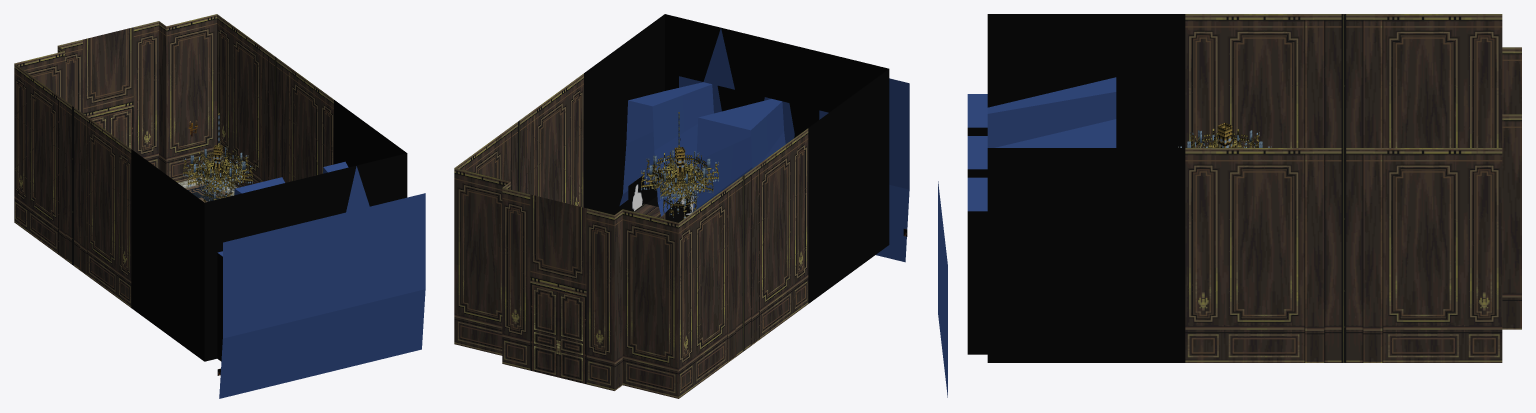
File: MAP213.obj
3 renders of one model, left to right at view 1: azimuth 30°, elevation 25°; view 2: azimuth 150°, elevation 25°; view 3: azimuth 270°, elevation 25°, orthographic. The views are drawn at different scales.
Parts seen in each view (by area): view 1: mesh_73, mesh_64, mesh_61, mesh_66, mesh_63, mesh_68, mesh_65, mesh_47, mesh_62, mesh_67, mesh_69, mesh_80 (+1 smaller); view 2: mesh_61, mesh_64, mesh_63, mesh_80, mesh_68, mesh_65, mesh_66, mesh_62, mesh_73, mesh_47, mesh_69, mesh_82; view 3: mesh_66, mesh_65, mesh_64, mesh_63, mesh_80, mesh_61, mesh_68, mesh_67, mesh_69, mesh_73, mesh_47.
Boxes of the visible parts, bbox=[...] form: mesh_73: bbox=[219, 193, 425, 398]; mesh_64: bbox=[14, 63, 131, 307]; mesh_61: bbox=[14, 14, 216, 182]; mesh_66: bbox=[217, 14, 333, 187]; mesh_63: bbox=[131, 149, 204, 361]; mesh_68: bbox=[204, 153, 407, 361]; mesh_65: bbox=[334, 100, 406, 167]; mesh_47: bbox=[183, 113, 252, 202]; mesh_62: bbox=[89, 107, 133, 150]; mesh_67: bbox=[246, 141, 275, 181]; mesh_69: bbox=[217, 166, 369, 256]; mesh_80: bbox=[234, 161, 348, 195]; mesh_61: bbox=[454, 168, 678, 398]; mesh_64: bbox=[678, 128, 808, 398]; mesh_63: bbox=[808, 69, 889, 303]; mesh_80: bbox=[619, 82, 785, 216]; mesh_68: bbox=[665, 14, 888, 137]; mesh_65: bbox=[584, 14, 664, 214]; mesh_66: bbox=[455, 73, 583, 207]; mesh_62: bbox=[530, 282, 586, 384]; mesh_73: bbox=[876, 78, 909, 262]; mesh_47: bbox=[641, 112, 718, 218]; mesh_69: bbox=[679, 28, 828, 144]; mesh_82: bbox=[628, 175, 644, 211]; mesh_66: bbox=[1185, 148, 1502, 362]; mesh_65: bbox=[987, 148, 1185, 362]; mesh_64: bbox=[1185, 14, 1502, 147]; mesh_63: bbox=[987, 14, 1185, 147]; mesh_80: bbox=[987, 77, 1116, 147]; mesh_61: bbox=[1502, 47, 1521, 329]; mesh_68: bbox=[967, 127, 987, 354]; mesh_67: bbox=[1343, 291, 1422, 327]; mesh_69: bbox=[967, 94, 987, 211]; mesh_73: bbox=[938, 181, 947, 397]; mesh_47: bbox=[1178, 122, 1271, 147].
Bounding box in the file's own units: 103 × 89.6 × 189.
26 materials, 26 textured.
